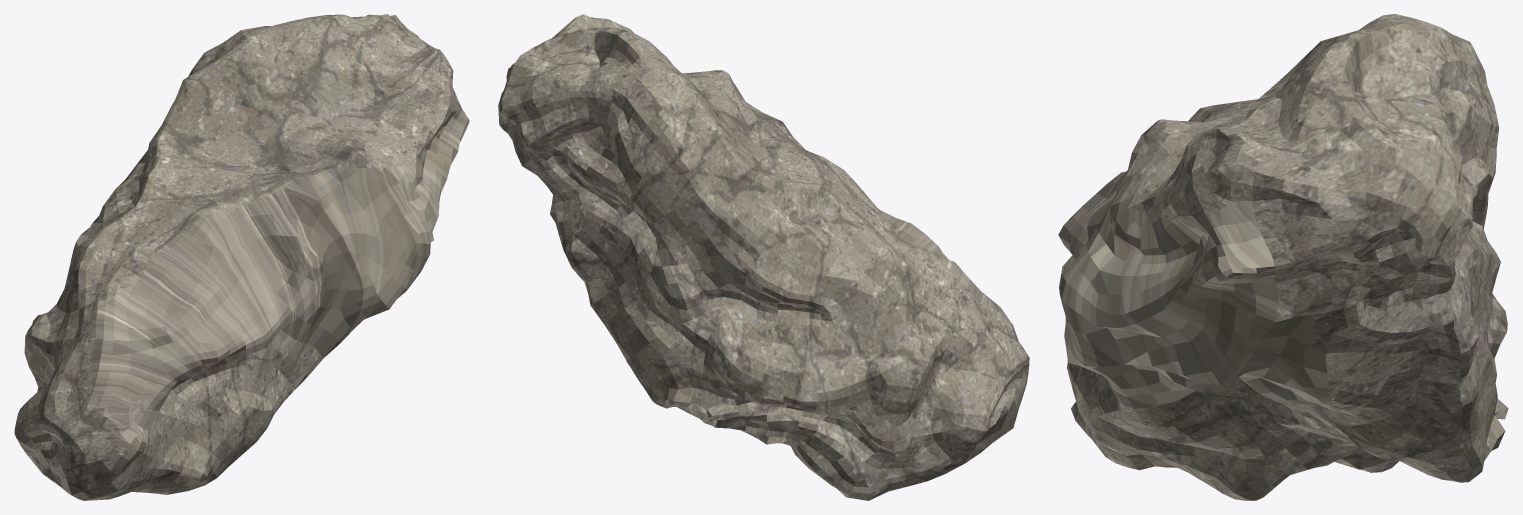
File: rock_2.fbx
3 renders of one model, left to right at view 1: azimuth 30°, elevation 25°; view 2: azimuth 150°, elevation 25°; view 3: azimuth 270°, elevation 25°, orthographic. The views are drawn at different scales.
Visible parts, largest first — view 1: Rock_2_remeshed_uv_low1:ZBrush_defualt_group; view 2: Rock_2_remeshed_uv_low1:ZBrush_defualt_group; view 3: Rock_2_remeshed_uv_low1:ZBrush_defualt_group.
Boxes of the visible parts, x1,y1,x2,y2 form: Rock_2_remeshed_uv_low1:ZBrush_defualt_group: (14, 14, 469, 500); Rock_2_remeshed_uv_low1:ZBrush_defualt_group: (498, 14, 1029, 500); Rock_2_remeshed_uv_low1:ZBrush_defualt_group: (1058, 14, 1508, 500).
Size of the model in its own units: 7.48 by 6.42 by 4.27.
